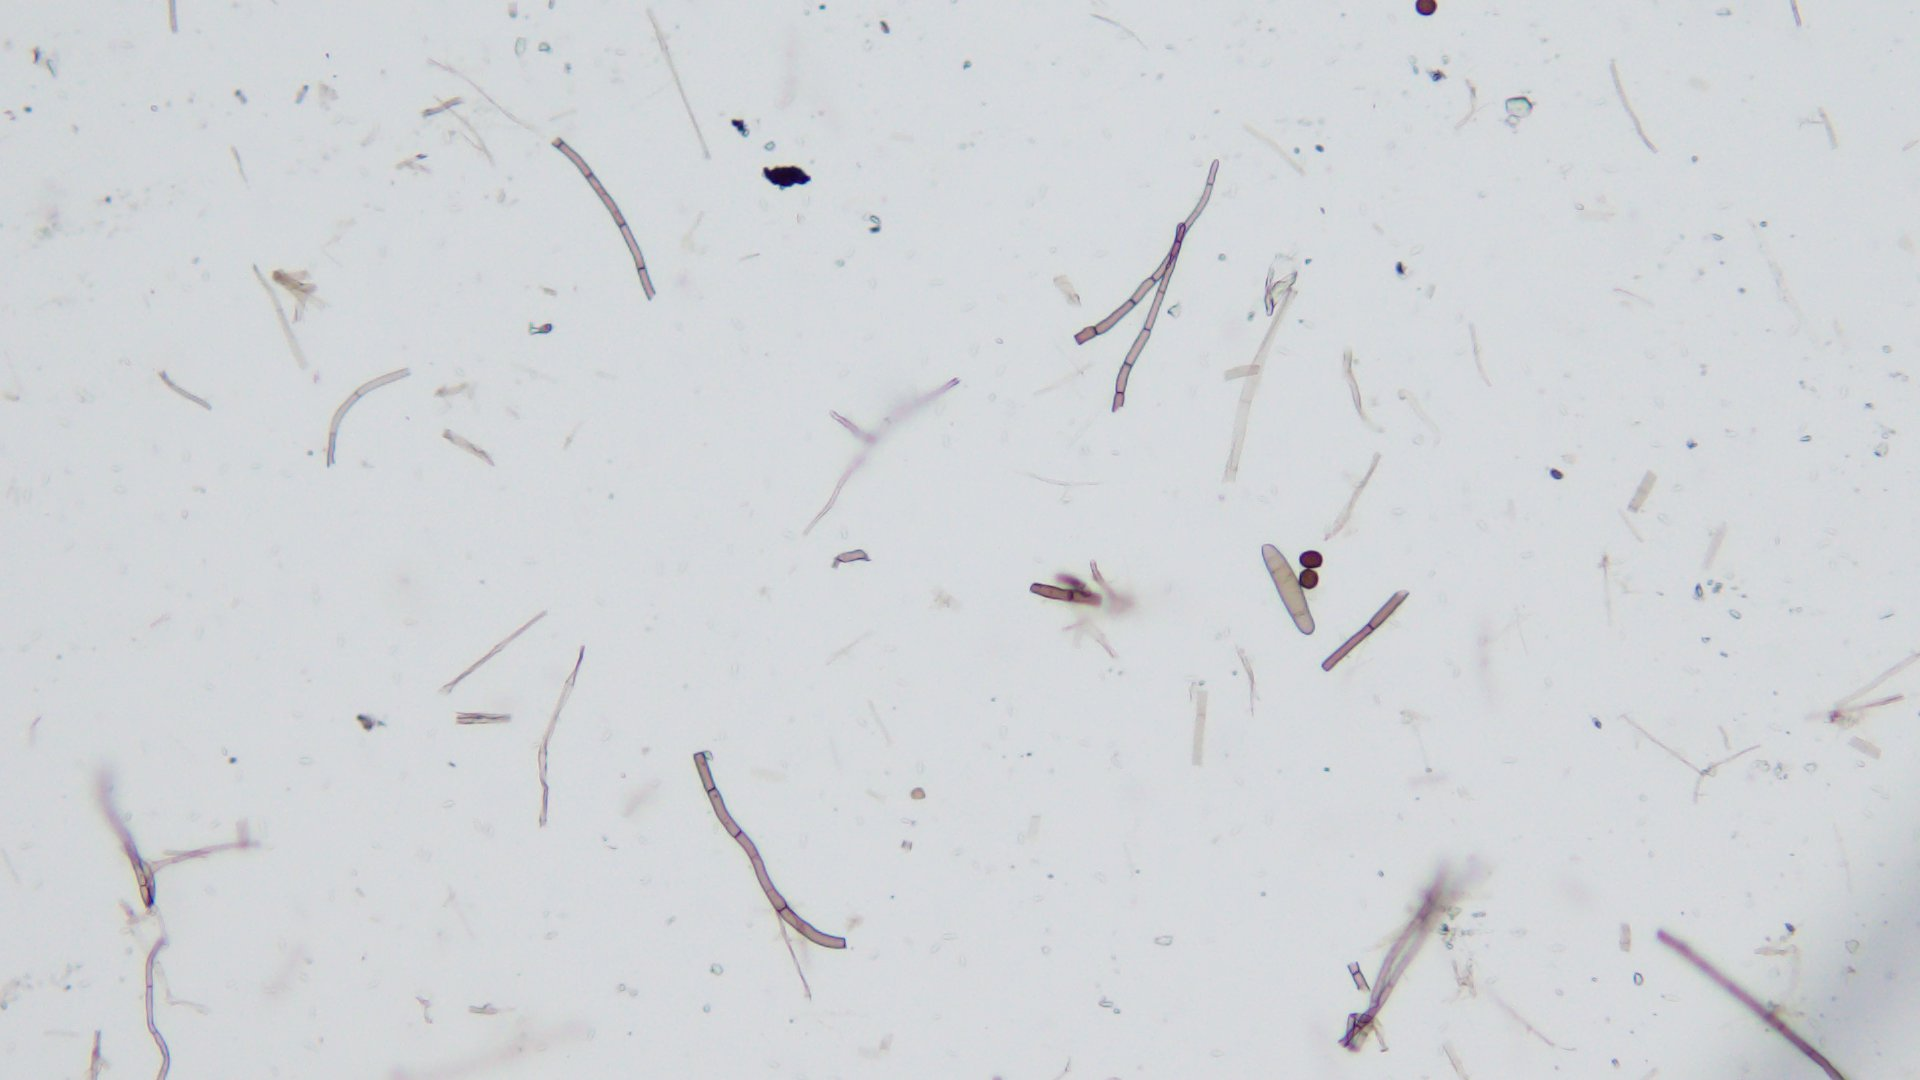dbb_spore: (1257, 545, 1317, 636)
shs_spore: (1298, 568, 1320, 593), (1414, 1, 1440, 17), (1299, 551, 1323, 568)
